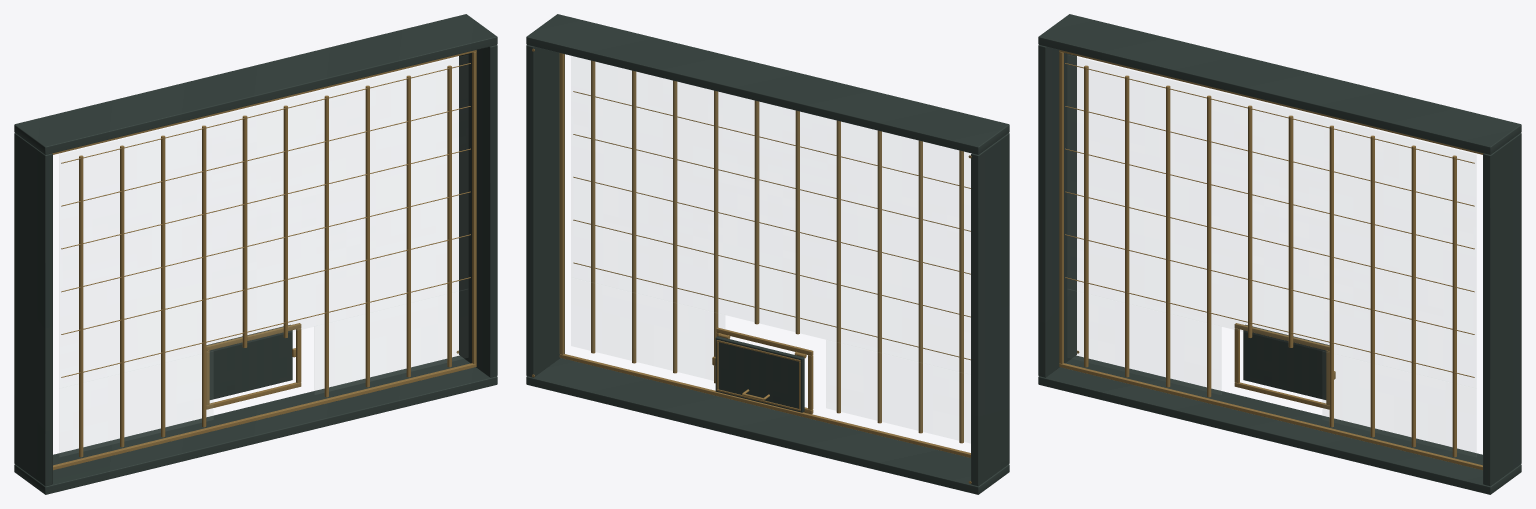
The model's file is employee-window.glb.
3 views of the same model, side by side, from view 1: azimuth 30°, elevation 25°; view 2: azimuth 150°, elevation 25°; view 3: azimuth 330°, elevation 25° (orthographic).
Visible parts, largest first — view 1: window-frame, window-hardware, flap-panel; view 2: window-frame, window-hardware, flap-panel, flap-hardware; view 3: window-frame, window-hardware, flap-panel.
Boxes of the visible parts, left/top/right/bottom form: window-frame: left=14, top=14, right=497, bottom=494; window-hardware: left=52, top=50, right=476, bottom=470; flap-panel: left=206, top=324, right=292, bottom=399; window-frame: left=526, top=14, right=1009, bottom=494; window-hardware: left=532, top=48, right=971, bottom=483; flap-panel: left=715, top=336, right=804, bottom=412; flap-hardware: left=716, top=333, right=803, bottom=410; window-frame: left=1038, top=14, right=1521, bottom=494; window-hardware: left=1059, top=50, right=1483, bottom=470; flap-panel: left=1243, top=324, right=1329, bottom=399.
Bounding box in the file's own units: 1.66 × 1.22 × 0.204.
3 materials, 3 textured.
